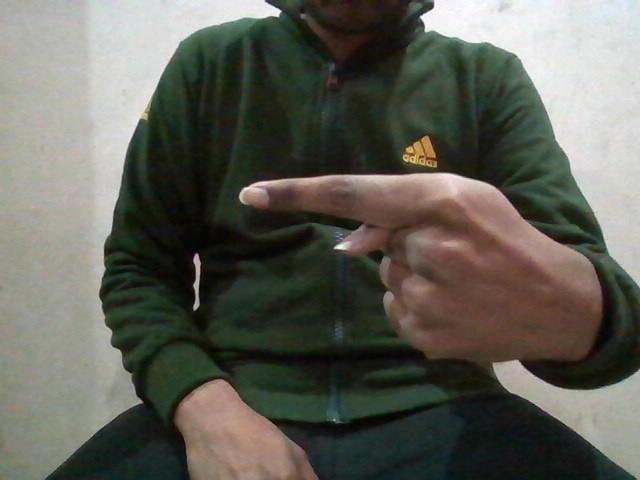G: (228, 169, 581, 361)
